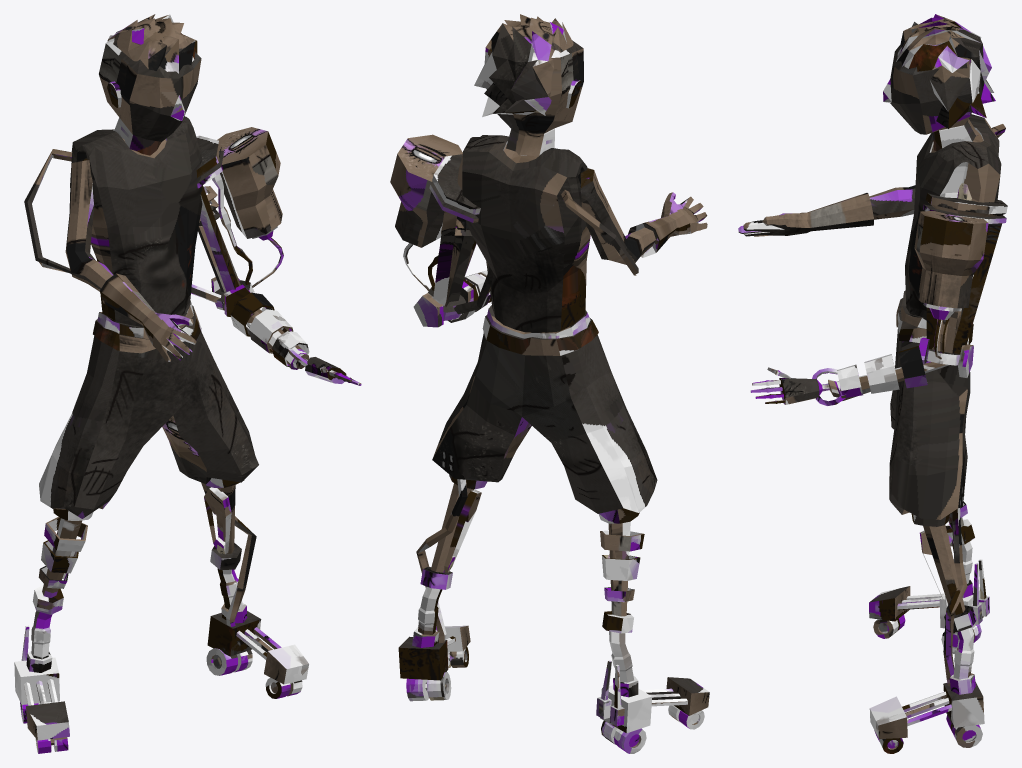
The model's file is CyborgFINALAnimation_000028.obj.
3 views of the same model, side by side, from view 1: azimuth 30°, elevation 25°; view 2: azimuth 150°, elevation 25°; view 3: azimuth 270°, elevation 25° (orthographic). The views are drawn at different scales.
Visible parts, largest first — view 1: CyborgMesh_Cube.002; view 2: CyborgMesh_Cube.002; view 3: CyborgMesh_Cube.002.
Part boxes in pixels (x1=…): CyborgMesh_Cube.002: x1=14, y1=14, x2=361, y2=753; CyborgMesh_Cube.002: x1=390, y1=14, x2=709, y2=753; CyborgMesh_Cube.002: x1=738, y1=14, x2=1007, y2=753.
Size of the model in its own units: 4.03 by 9.64 by 3.47.
